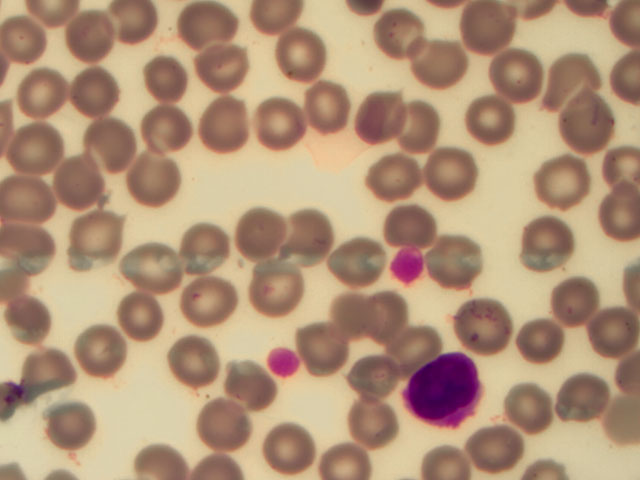Platelets: (263, 345, 300, 374), (392, 248, 422, 278)
RBC: (1, 14, 52, 64), (64, 13, 115, 63), (137, 52, 188, 102), (63, 71, 114, 121), (15, 66, 66, 116), (10, 123, 61, 173), (7, 171, 58, 221), (45, 158, 96, 208), (77, 120, 128, 170), (129, 155, 180, 205), (133, 108, 184, 158), (195, 97, 246, 147), (202, 41, 253, 91), (182, 3, 233, 53), (254, 93, 305, 143), (299, 83, 350, 133), (276, 34, 327, 84), (252, 1, 303, 51), (355, 88, 406, 138), (397, 100, 448, 150), (412, 36, 463, 86), (367, 11, 418, 61), (462, 96, 513, 146), (459, 4, 510, 54), (492, 52, 543, 102), (549, 54, 600, 104), (566, 98, 617, 148), (541, 158, 592, 208), (430, 147, 481, 197), (381, 151, 432, 201), (383, 198, 434, 248), (337, 234, 388, 284), (290, 220, 341, 270), (242, 209, 293, 259), (257, 261, 308, 311), (180, 278, 231, 328), (191, 227, 242, 277), (132, 242, 183, 292), (114, 296, 165, 346), (85, 325, 136, 375), (23, 343, 74, 393), (2, 293, 53, 343), (64, 212, 115, 262), (6, 223, 57, 273), (52, 402, 103, 452), (208, 401, 259, 451), (220, 367, 271, 417), (169, 334, 220, 384), (294, 328, 345, 378), (318, 291, 369, 341), (366, 285, 417, 335), (386, 322, 437, 372), (342, 362, 393, 412), (341, 396, 392, 446), (317, 430, 368, 480), (260, 421, 311, 471), (467, 430, 518, 480), (512, 383, 563, 433), (547, 374, 598, 424), (589, 305, 640, 355), (553, 273, 604, 323), (514, 317, 565, 367), (461, 298, 512, 348), (432, 235, 483, 285), (521, 218, 572, 268), (589, 186, 640, 236), (111, 1, 162, 50)
WBC: (400, 357, 485, 426)
